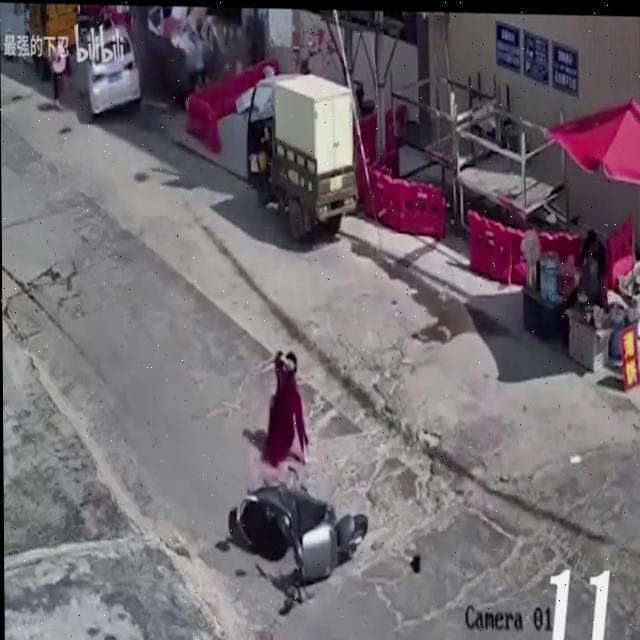normal: (230, 60, 370, 243)
single accident: (188, 380, 422, 598)
